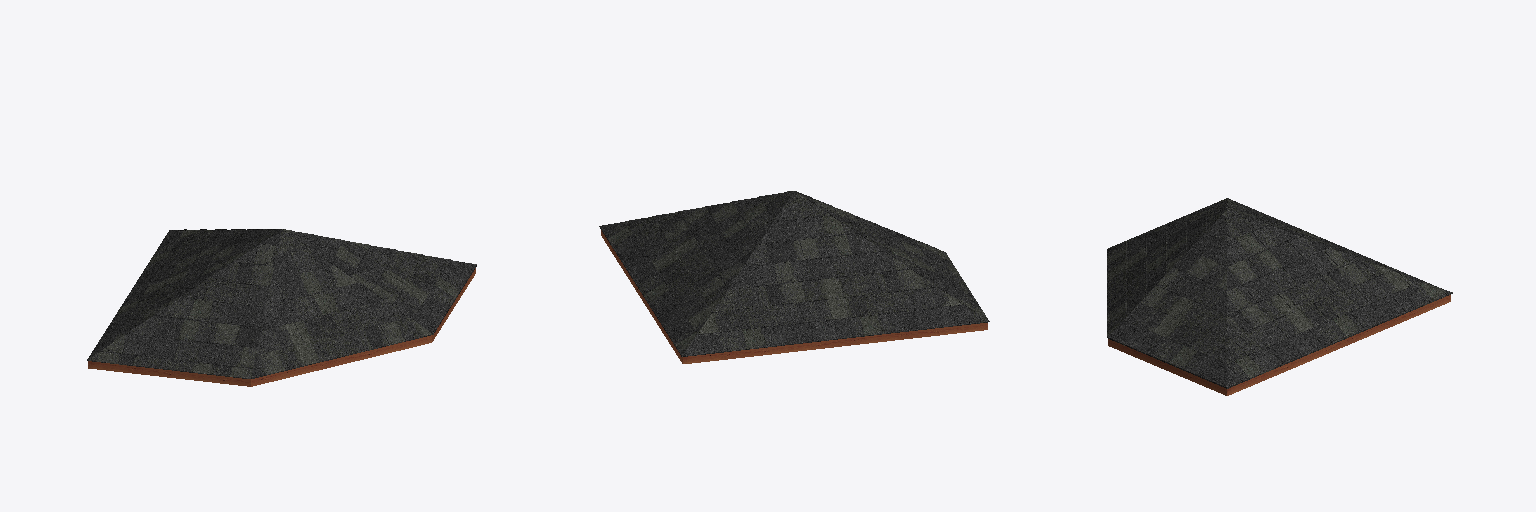
The picture shows the model from 3 angles: view 1: azimuth 30°, elevation 25°; view 2: azimuth 150°, elevation 25°; view 3: azimuth 270°, elevation 25°; orthographic projection.
Visible parts, largest first — view 1: roof_f, roof_l, roof_r, roof_bl, wood; view 2: roof_bl, roof_br, roof_l, wood; view 3: roof_br, roof_r, roof_f, wood, roof_bl, roof_l.
Boxes of the visible parts, x1,y1,x2,y2 form: roof_f: [251, 230, 432, 378]; roof_l: [87, 230, 281, 378]; roof_r: [282, 229, 476, 334]; roof_bl: [87, 229, 281, 359]; wood: [88, 268, 475, 386]; roof_bl: [682, 191, 988, 356]; roof_br: [599, 191, 793, 356]; roof_l: [797, 192, 989, 321]; wood: [601, 230, 987, 363]; roof_br: [1227, 210, 1452, 388]; roof_r: [1107, 211, 1226, 388]; roof_f: [1107, 210, 1226, 336]; wood: [1108, 295, 1450, 395]; roof_bl: [1227, 198, 1441, 288]; roof_l: [1112, 198, 1226, 246].
Size of the model in its own units: 153 by 34.37 by 117.
2 materials, 2 textured.